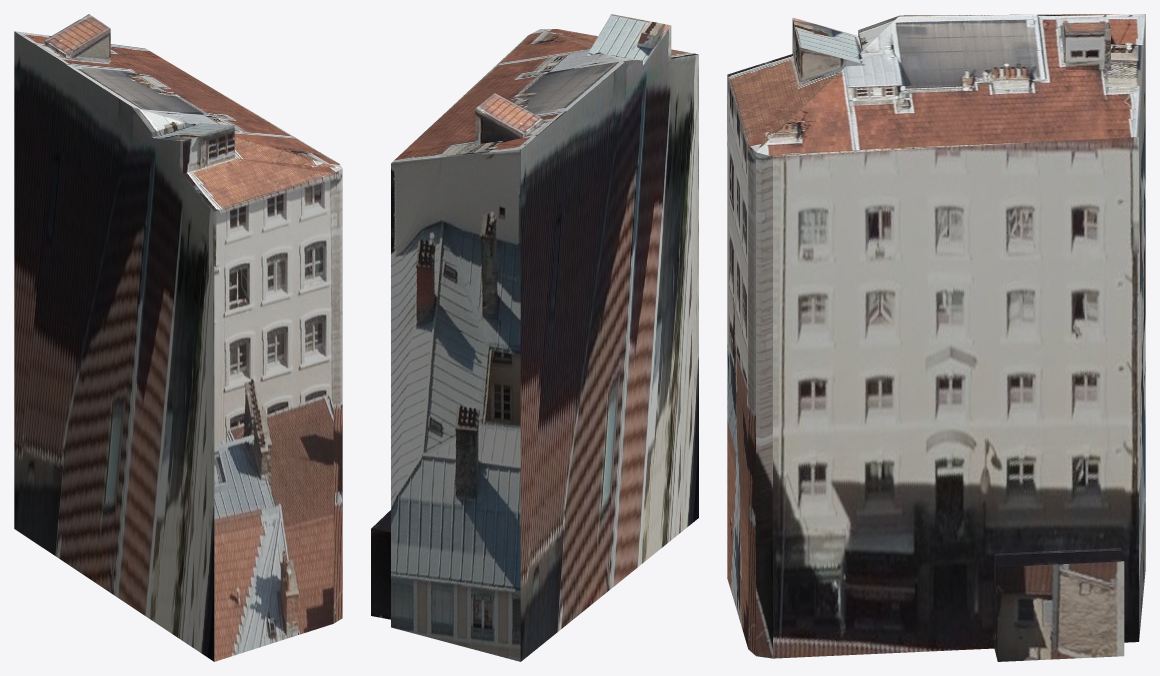
3 renders of one model, left to right at view 1: azimuth 30°, elevation 25°; view 2: azimuth 150°, elevation 25°; view 3: azimuth 270°, elevation 25°, orthographic. The views are drawn at different scales.
Visible parts, largest first — view 1: Z_UP; view 2: Z_UP; view 3: Z_UP.
Boxes of the visible parts, x1,y1,x2,y2 form: Z_UP: (14, 14, 342, 661); Z_UP: (371, 14, 698, 661); Z_UP: (727, 14, 1145, 661).
Bounding box in the file's own units: 9.86 × 29.14 × 19.26.
Materials: 2 (1 with a texture image).
